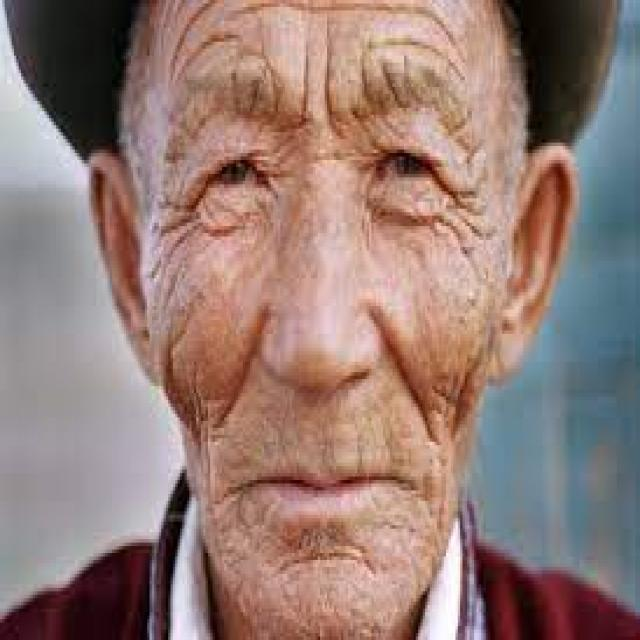Wrinkles: (170, 0, 475, 85), (439, 163, 503, 300), (163, 297, 209, 464), (149, 194, 201, 316), (433, 343, 483, 446), (367, 37, 474, 85), (271, 43, 310, 159), (322, 20, 346, 140)
